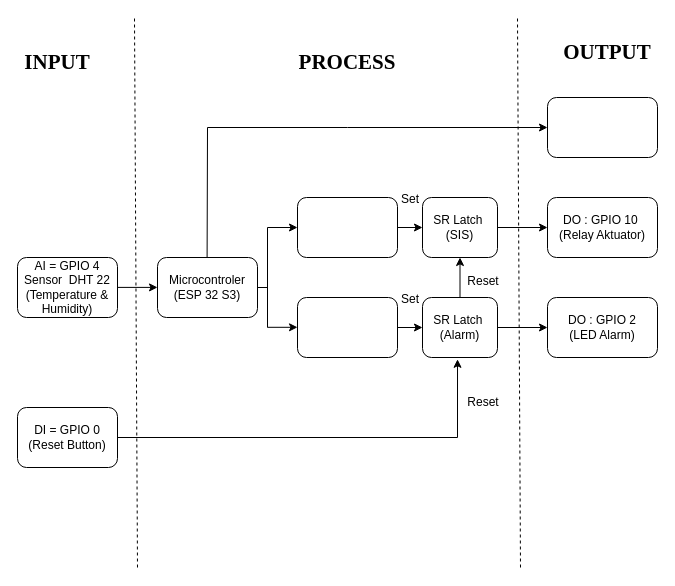
The diagram is 675 pixels wide and 586 high, and some of its shapes have lost their labels. Each missing label, with the box of its shape:
CMP ≥ 26°C (Warning): (296, 296, 398, 358)
CMP ≥ 30°C (Trip SIS): (296, 196, 398, 258)
UART Data Stream (Serial Print): (546, 96, 658, 158)
